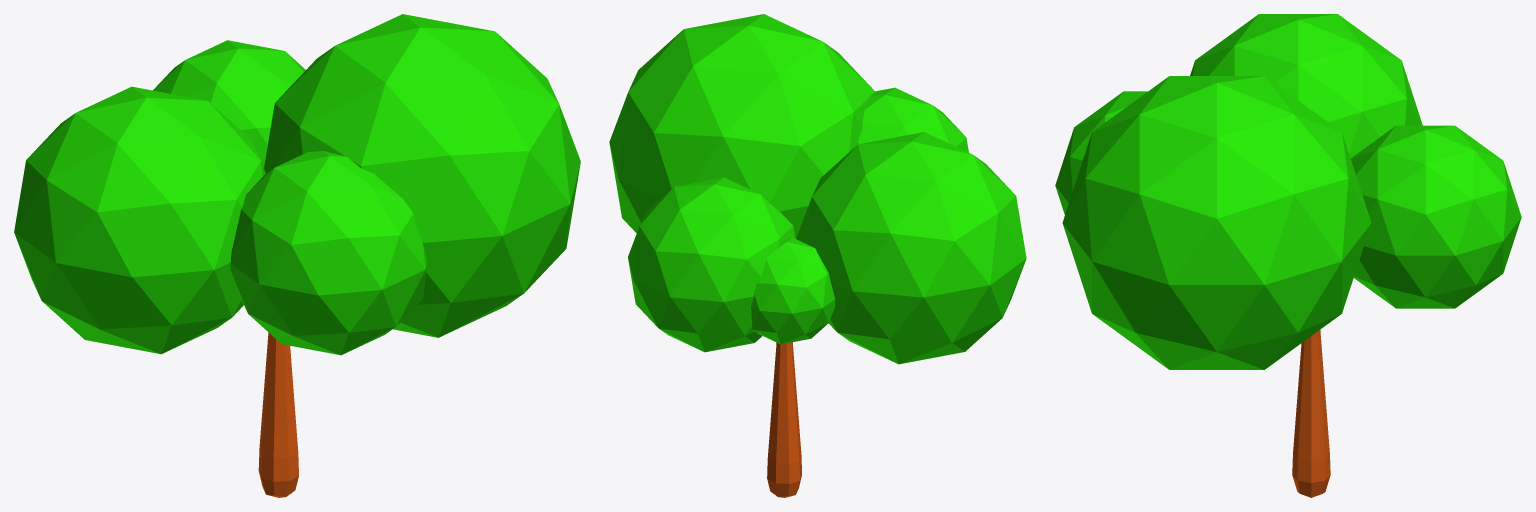
The model's file is low poly tree.fbx.
The picture shows the model from 3 angles, left to right: view 1: azimuth 30°, elevation 25°; view 2: azimuth 150°, elevation 25°; view 3: azimuth 270°, elevation 25°; orthographic projection. The views are drawn at different scales.
Parts seen in each view (by area): view 1: Tree; view 2: Tree; view 3: Tree.
Boxes of the visible parts, <box> form: Tree: <box>14,14,580,497</box>; Tree: <box>609,14,1026,497</box>; Tree: <box>1055,14,1521,497</box>.
Bounding box in the file's own units: 1680 × 1630 × 1508.
